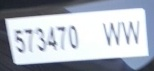0: (67, 24, 80, 51)
3: (35, 27, 47, 53)
4: (47, 26, 57, 50)
5: (12, 30, 26, 53)
7: (57, 25, 68, 50), (25, 27, 35, 53)
w: (100, 19, 121, 46), (122, 18, 140, 46)
